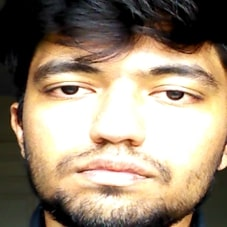drowsy: (29, 50, 227, 196)
